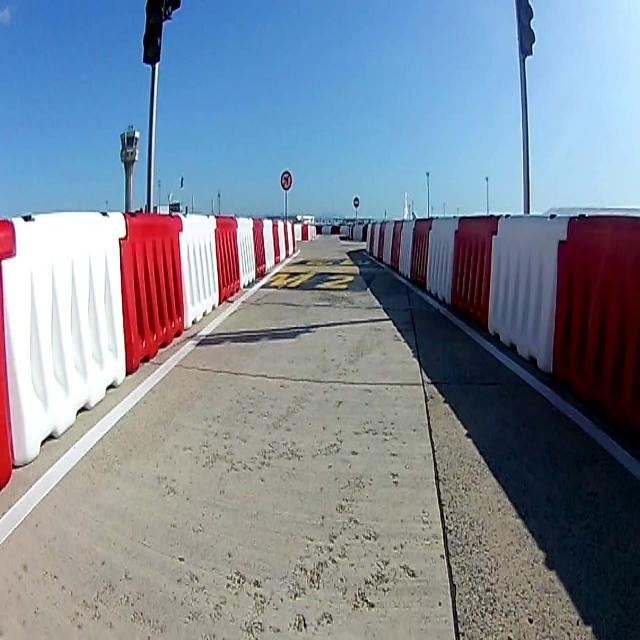soladonulmez: (282, 172, 292, 191)
